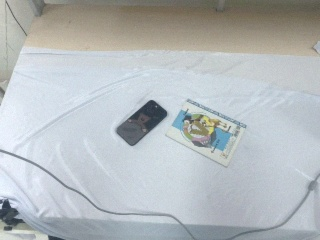book: (165, 99, 247, 169)
phone: (115, 99, 168, 147)
